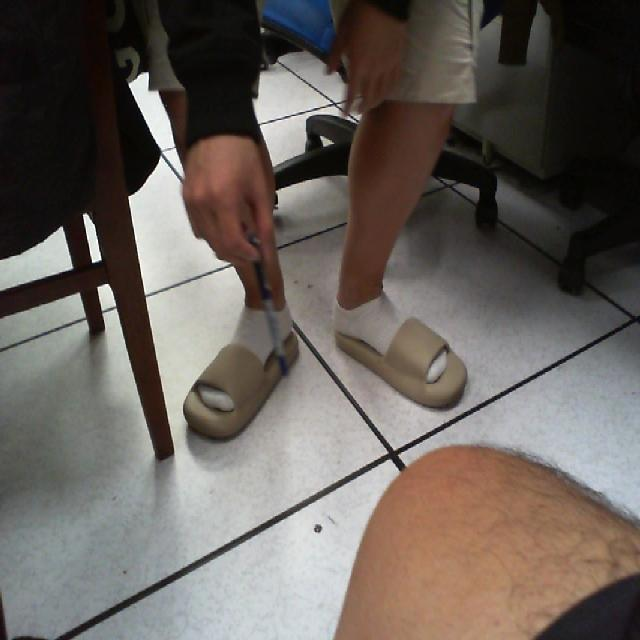Pen: (234, 216, 308, 388)
